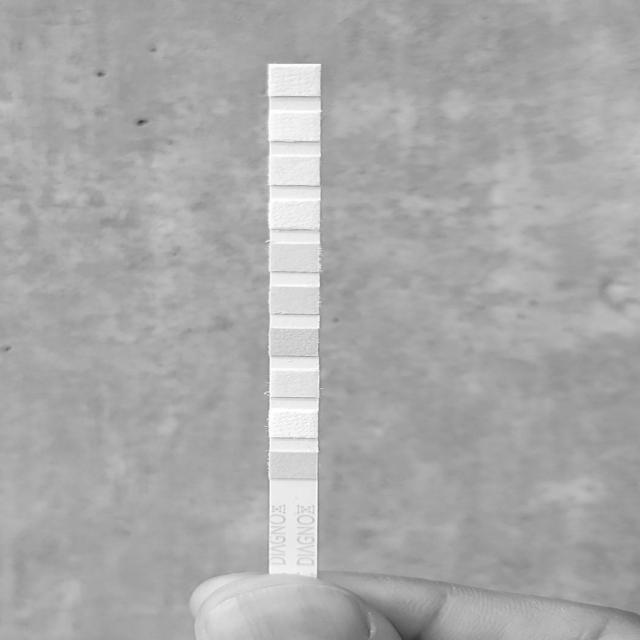Bilirubin: (270, 411, 318, 437)
Blood: (269, 288, 319, 314)
Glucose: (270, 453, 319, 477)
Ketone: (270, 370, 319, 397)
Leukocytes: (269, 66, 320, 95)
Nitrite: (269, 111, 321, 141)
Protein: (270, 200, 319, 229)
SpGravity: (270, 329, 318, 355)
Urobilinogen: (270, 157, 320, 185)
background: (0, 0, 640, 640)
pH: (270, 244, 320, 271)
strip: (268, 64, 321, 569)
